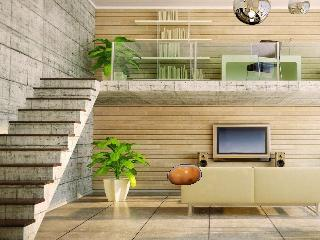potato: (163, 162, 208, 190)
